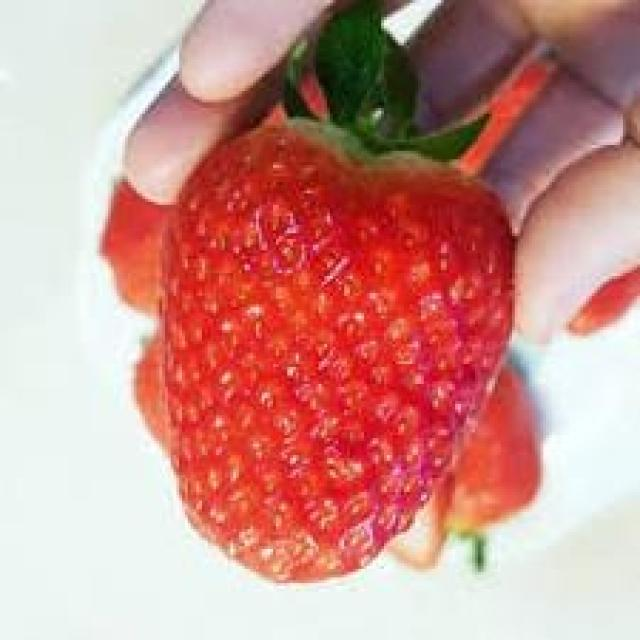mature: (154, 119, 516, 586)
